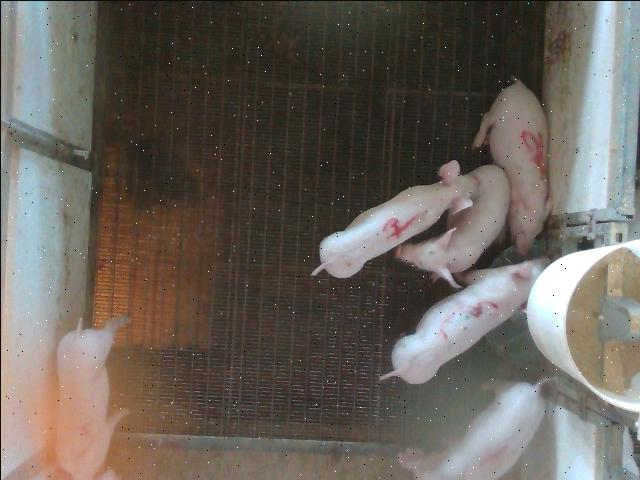pig-1: (432, 378, 546, 479)
pig-2: (55, 315, 129, 479)
pig-3: (380, 258, 548, 382)
pig-4: (311, 160, 475, 276)
pig-5: (472, 78, 550, 253)
